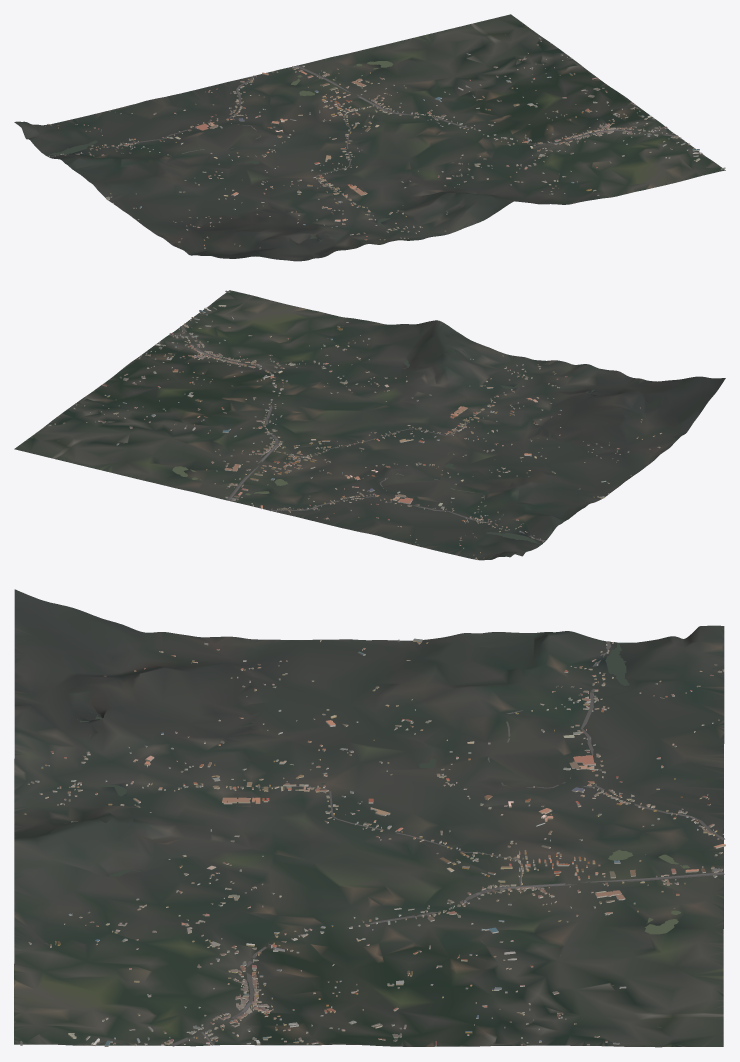
3 views of the same model, one above another, from view 1: azimuth 30°, elevation 25°; view 2: azimuth 150°, elevation 25°; view 3: azimuth 270°, elevation 25° (orthographic). The views are drawn at different scales.
Parts seen in each view (by area): view 1: ground, buildings, roads, water; view 2: ground, buildings, roads, water; view 3: ground, buildings, roads, water.
Boxes of the visible parts, box(x1,y1,x2,y2) form: ground: box(14, 14, 725, 261); buildings: box(45, 37, 725, 248); roads: box(49, 65, 677, 190); water: box(43, 26, 525, 241); ground: box(14, 290, 725, 560); buildings: box(48, 290, 661, 559); roads: box(169, 326, 545, 541); water: box(37, 360, 594, 546); ground: box(14, 589, 724, 1047); buildings: box(20, 638, 725, 1046); roads: box(170, 641, 724, 1046); water: box(77, 642, 689, 1043).
Bounding box in the file's own units: 5632 × 384 × 4220.
